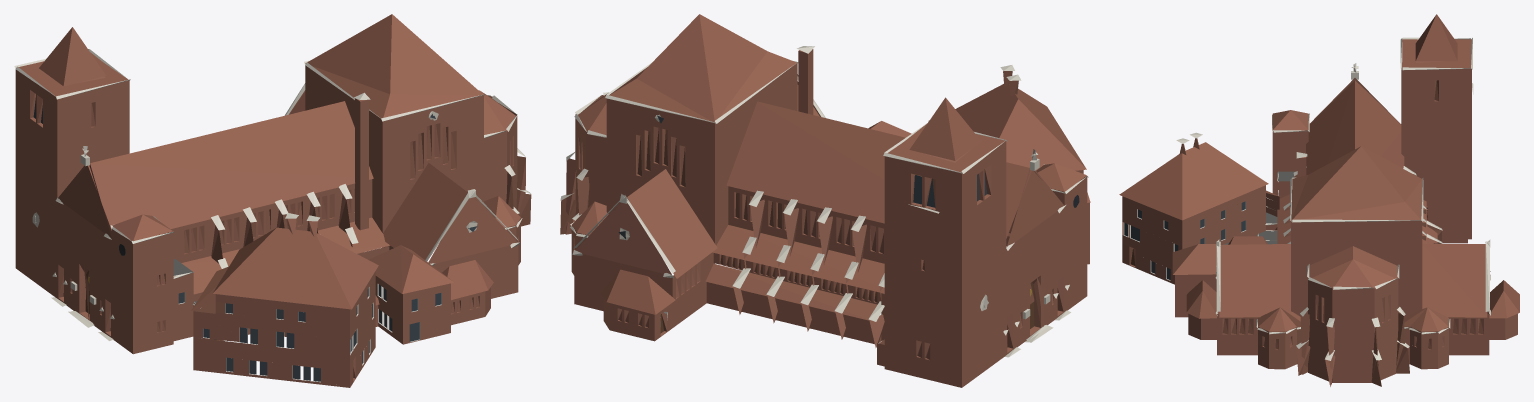
File: hofkerk.lod1.glb
The picture shows the model from 3 angles, left to right: view 1: azimuth 30°, elevation 25°; view 2: azimuth 150°, elevation 25°; view 3: azimuth 270°, elevation 25°; orthographic projection. The views are drawn at different scales.
Visible parts, largest first — view 1: hofkerk; view 2: hofkerk; view 3: hofkerk.
Part boxes in pixels (box(x1,y1,x2,y2)): hofkerk: box(14, 14, 531, 387); hofkerk: box(560, 14, 1090, 387); hofkerk: box(1119, 14, 1519, 386).
Size of the model in its own units: 59.19 by 32 by 55.26.
